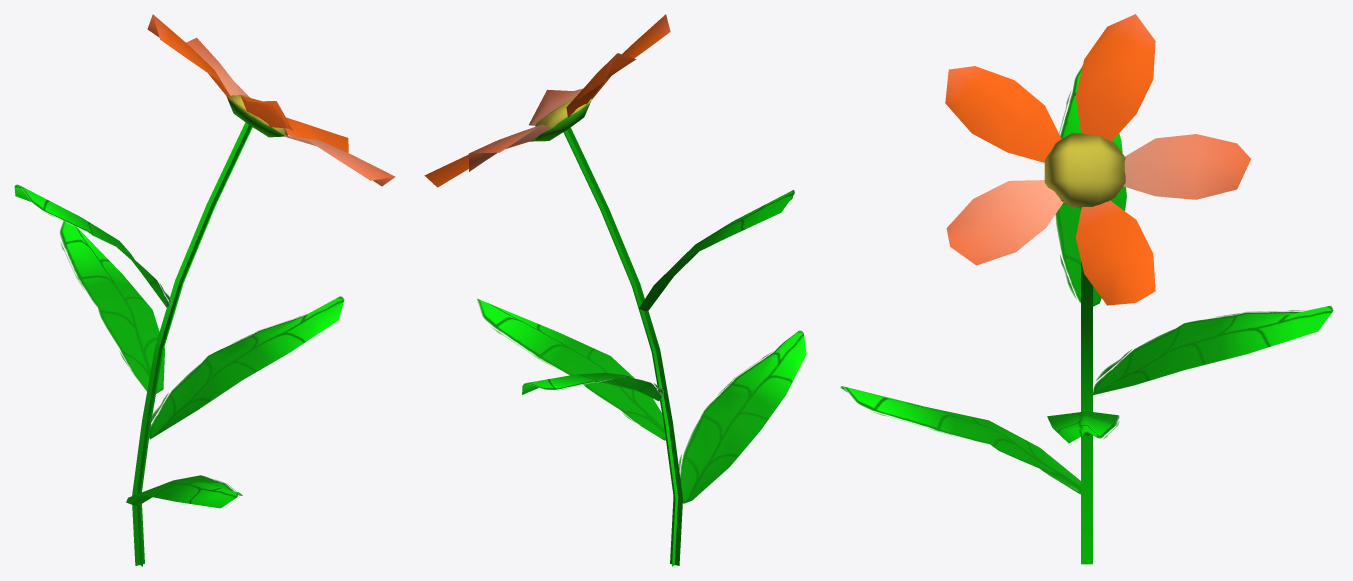
Rendered from Flower_ForestProp_001.fbx.
3 views of the same model, side by side, from view 1: azimuth 30°, elevation 25°; view 2: azimuth 150°, elevation 25°; view 3: azimuth 270°, elevation 25° (orthographic). The views are drawn at different scales.
Visible parts, largest first — view 1: flower花; view 2: flower花; view 3: flower花.
Boxes of the visible parts, <box> form: flower花: <box>14,14,395,566</box>; flower花: <box>424,14,806,566</box>; flower花: <box>840,14,1333,564</box>.
Size of the model in its own units: 368 by 518 by 416.
Materials: 1 (1 with a texture image).
